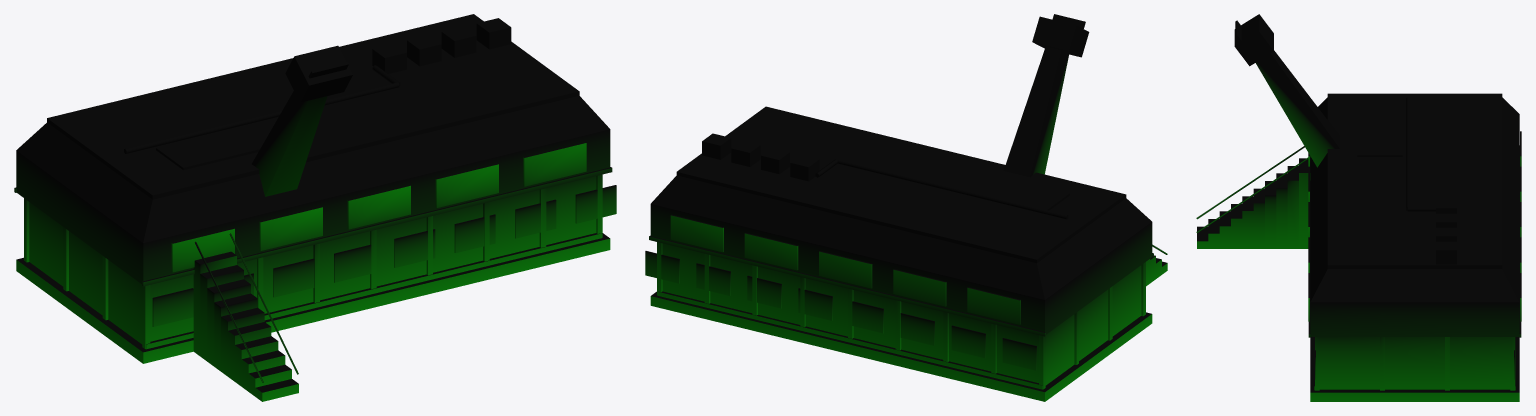
File: terminal1.glb
The picture shows the model from 3 angles, left to right: view 1: azimuth 30°, elevation 25°; view 2: azimuth 150°, elevation 25°; view 3: azimuth 270°, elevation 25°; orthographic projection. The views are drawn at different scales.
Parts seen in each view (by area): view 1: lod0; view 2: lod0; view 3: lod0.
Part boxes in pixels (x1,y1,x2,y2): lod0: [14, 14, 616, 401]; lod0: [645, 14, 1167, 401]; lod0: [1196, 14, 1521, 401].
Size of what is drawn, in the model's own units: 26.05 by 15.7 by 18.64.
